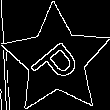P_NE: (26, 29, 86, 90)
